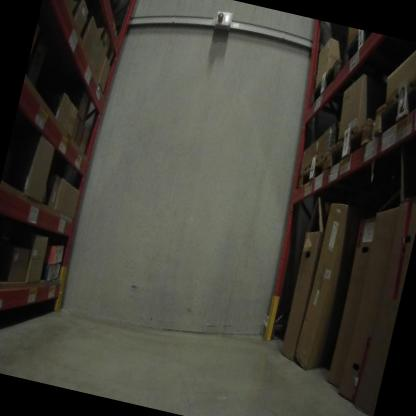pallet: (305, 56, 405, 140), (372, 53, 416, 144), (326, 108, 381, 178), (338, 28, 397, 76), (297, 145, 332, 203)
